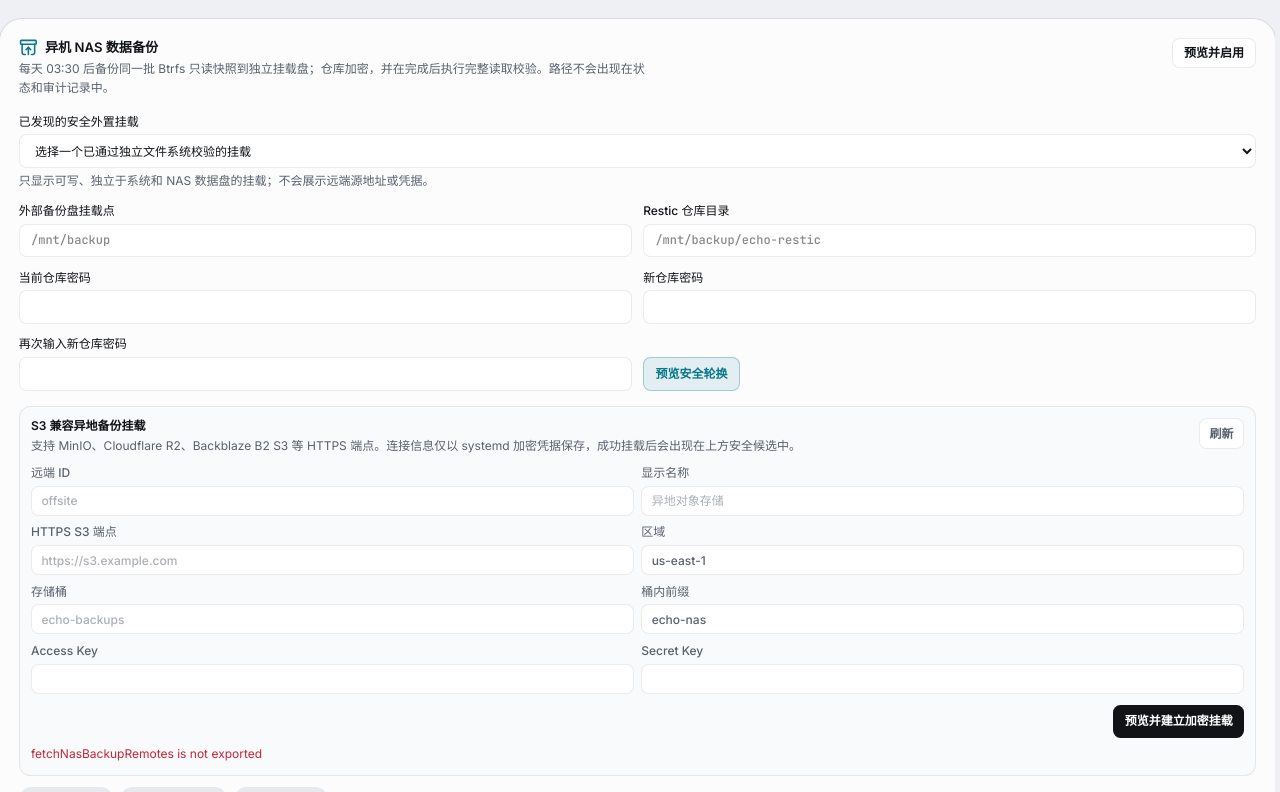
Test: NAS backup panel › fills the repository paths from a verified external mount candidate
Select "/mnt/cloud · 远端 · fuse.rclone · 可用 512.0 GiB" in the dropdown labelled "已发现的安全外置挂载". click: point(638, 151)
box: [19,134,1256,168]
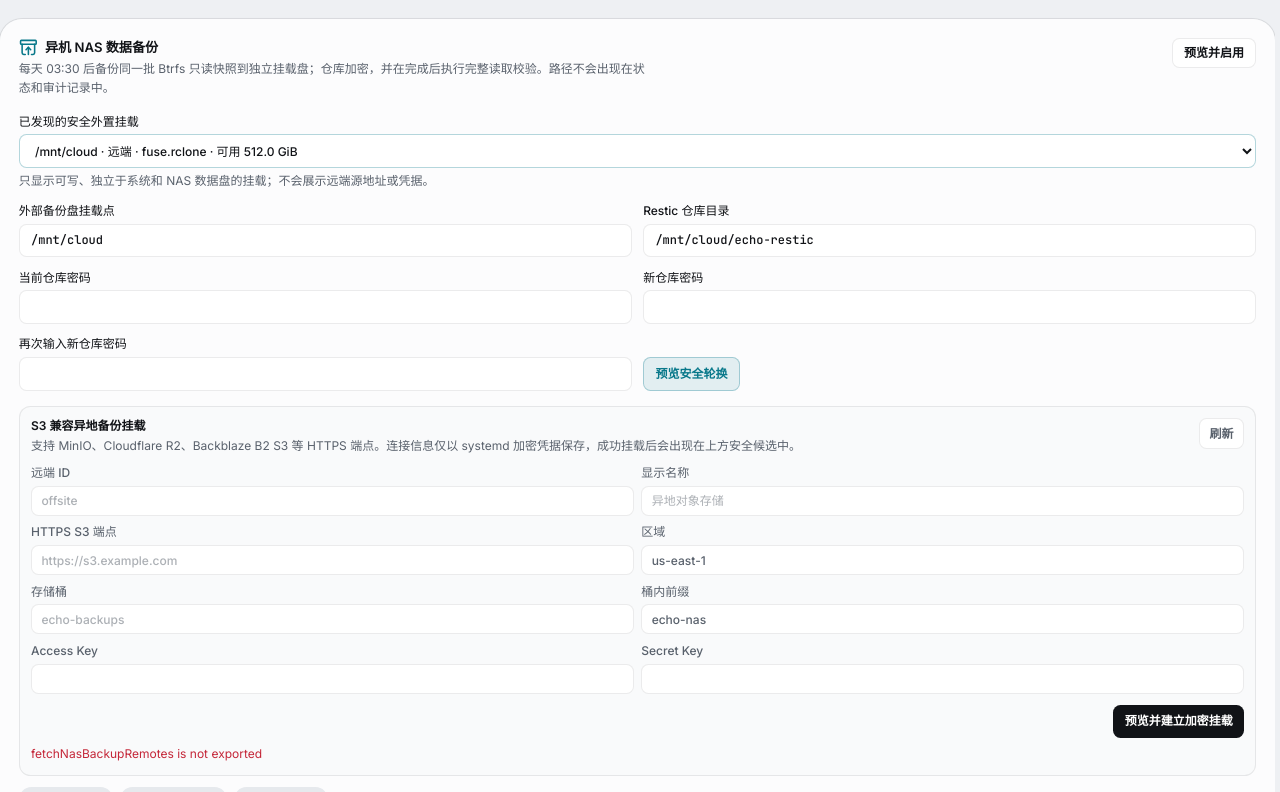
Expected: the field labelled "外部备份盘挂载点" holds "/mnt/cloud", [19,224,632,257]
Expected: the field labelled "Restic 仓库目录" holds "/mnt/cloud/echo-restic", [643,224,1256,257]
